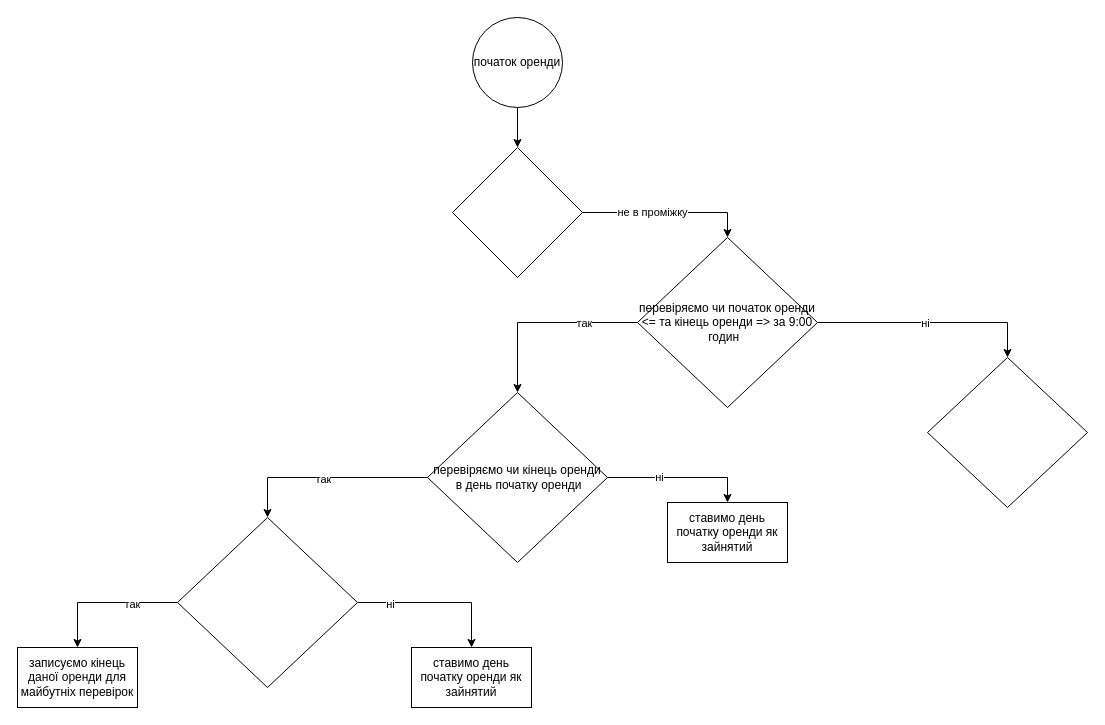
Some shapes in this 1105 by 725 pixel diagram are drawn without their labels. Here are the shapes that lost their labels. From the top down, the centre of each, then its label:
At (517,212): "перевірка чи початок оренди в проміжку 9-21".
At (1007,432): "чи кінець оренди між 9-21".
At (267,602): "чи має кінець оренди >= 9 годин до 21:00".
